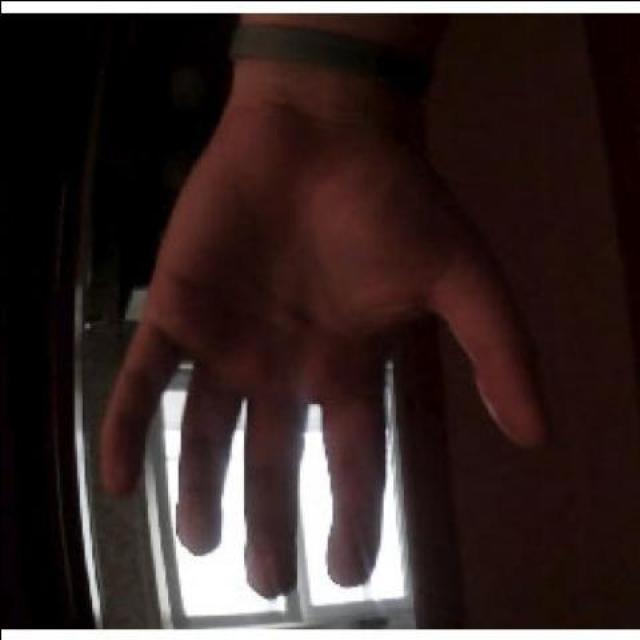Open Hand: (83, 22, 558, 606)
